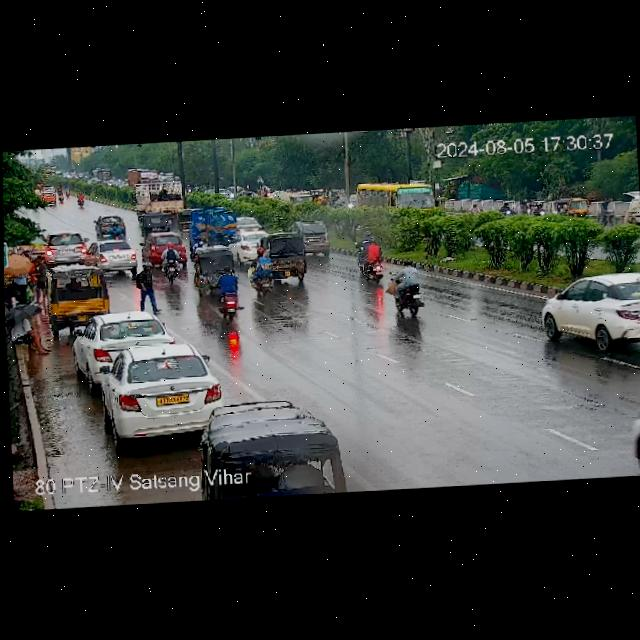bus: (354, 179, 440, 216)
car: (204, 395, 352, 499), (100, 342, 221, 439), (541, 266, 640, 346), (75, 310, 168, 371), (43, 264, 112, 320), (260, 232, 308, 285), (85, 240, 145, 276), (41, 231, 87, 265), (193, 244, 239, 278), (292, 219, 331, 250), (231, 232, 259, 262), (141, 211, 171, 234), (94, 215, 124, 235), (559, 196, 586, 215)
motorcycle: (388, 260, 430, 320), (189, 205, 238, 246), (352, 236, 386, 283), (209, 269, 242, 316), (158, 242, 184, 276), (107, 221, 122, 238)
person: (5, 300, 54, 359), (4, 256, 36, 304), (134, 258, 157, 316)
truck: (131, 180, 186, 214)
